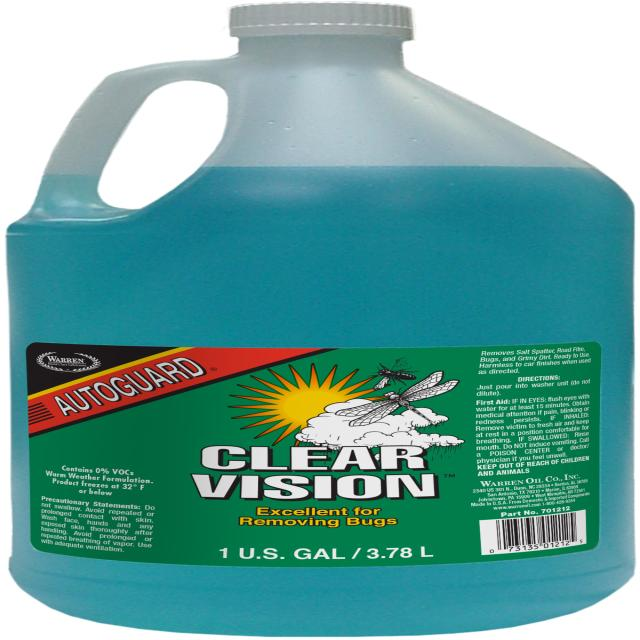winwinshield_washer: (6, 2, 636, 636)
